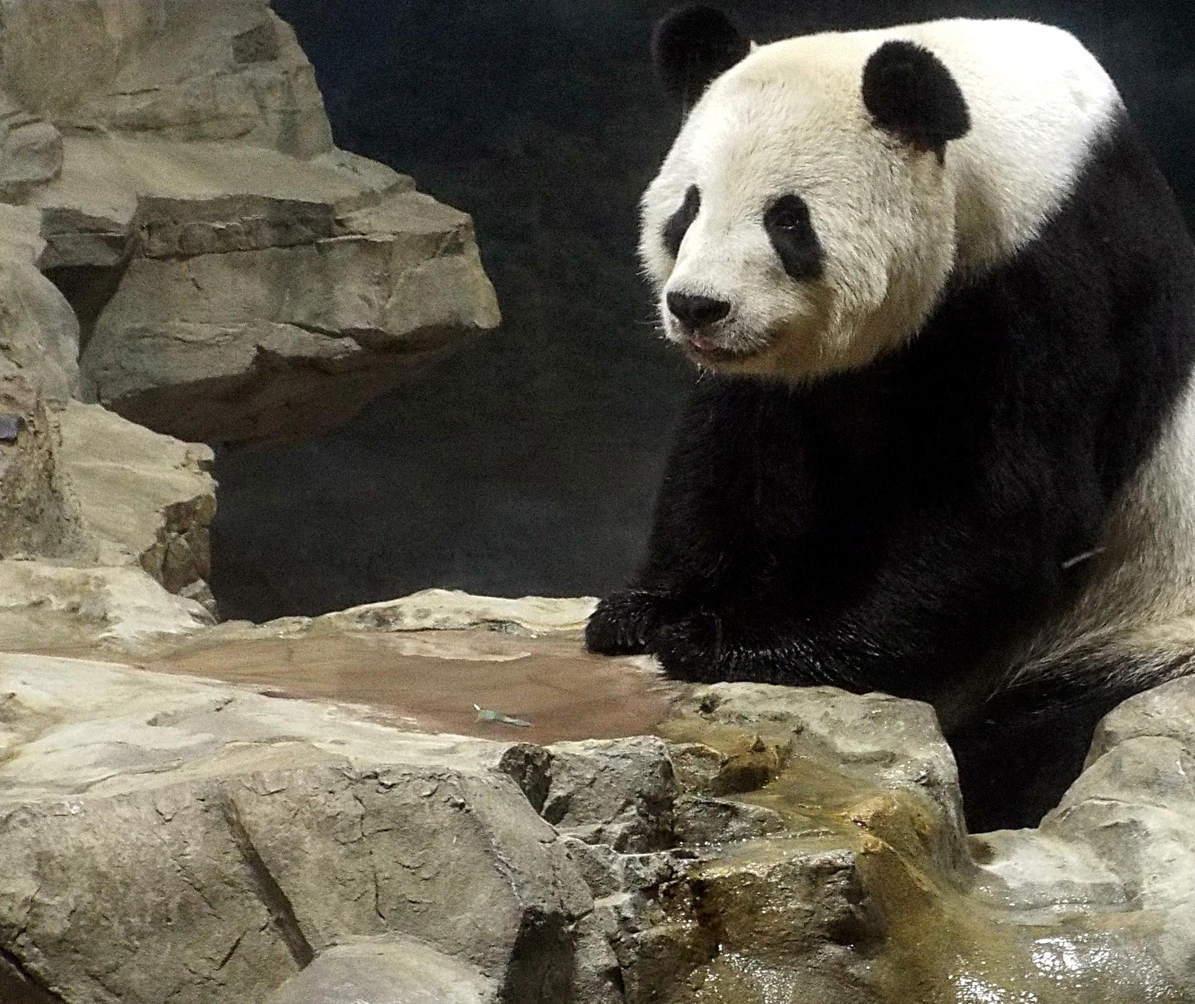panda: (582, 10, 1195, 836)
